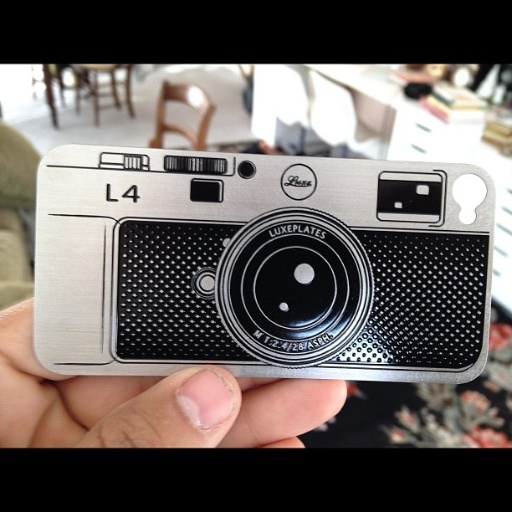hand: (0, 295, 346, 450)
